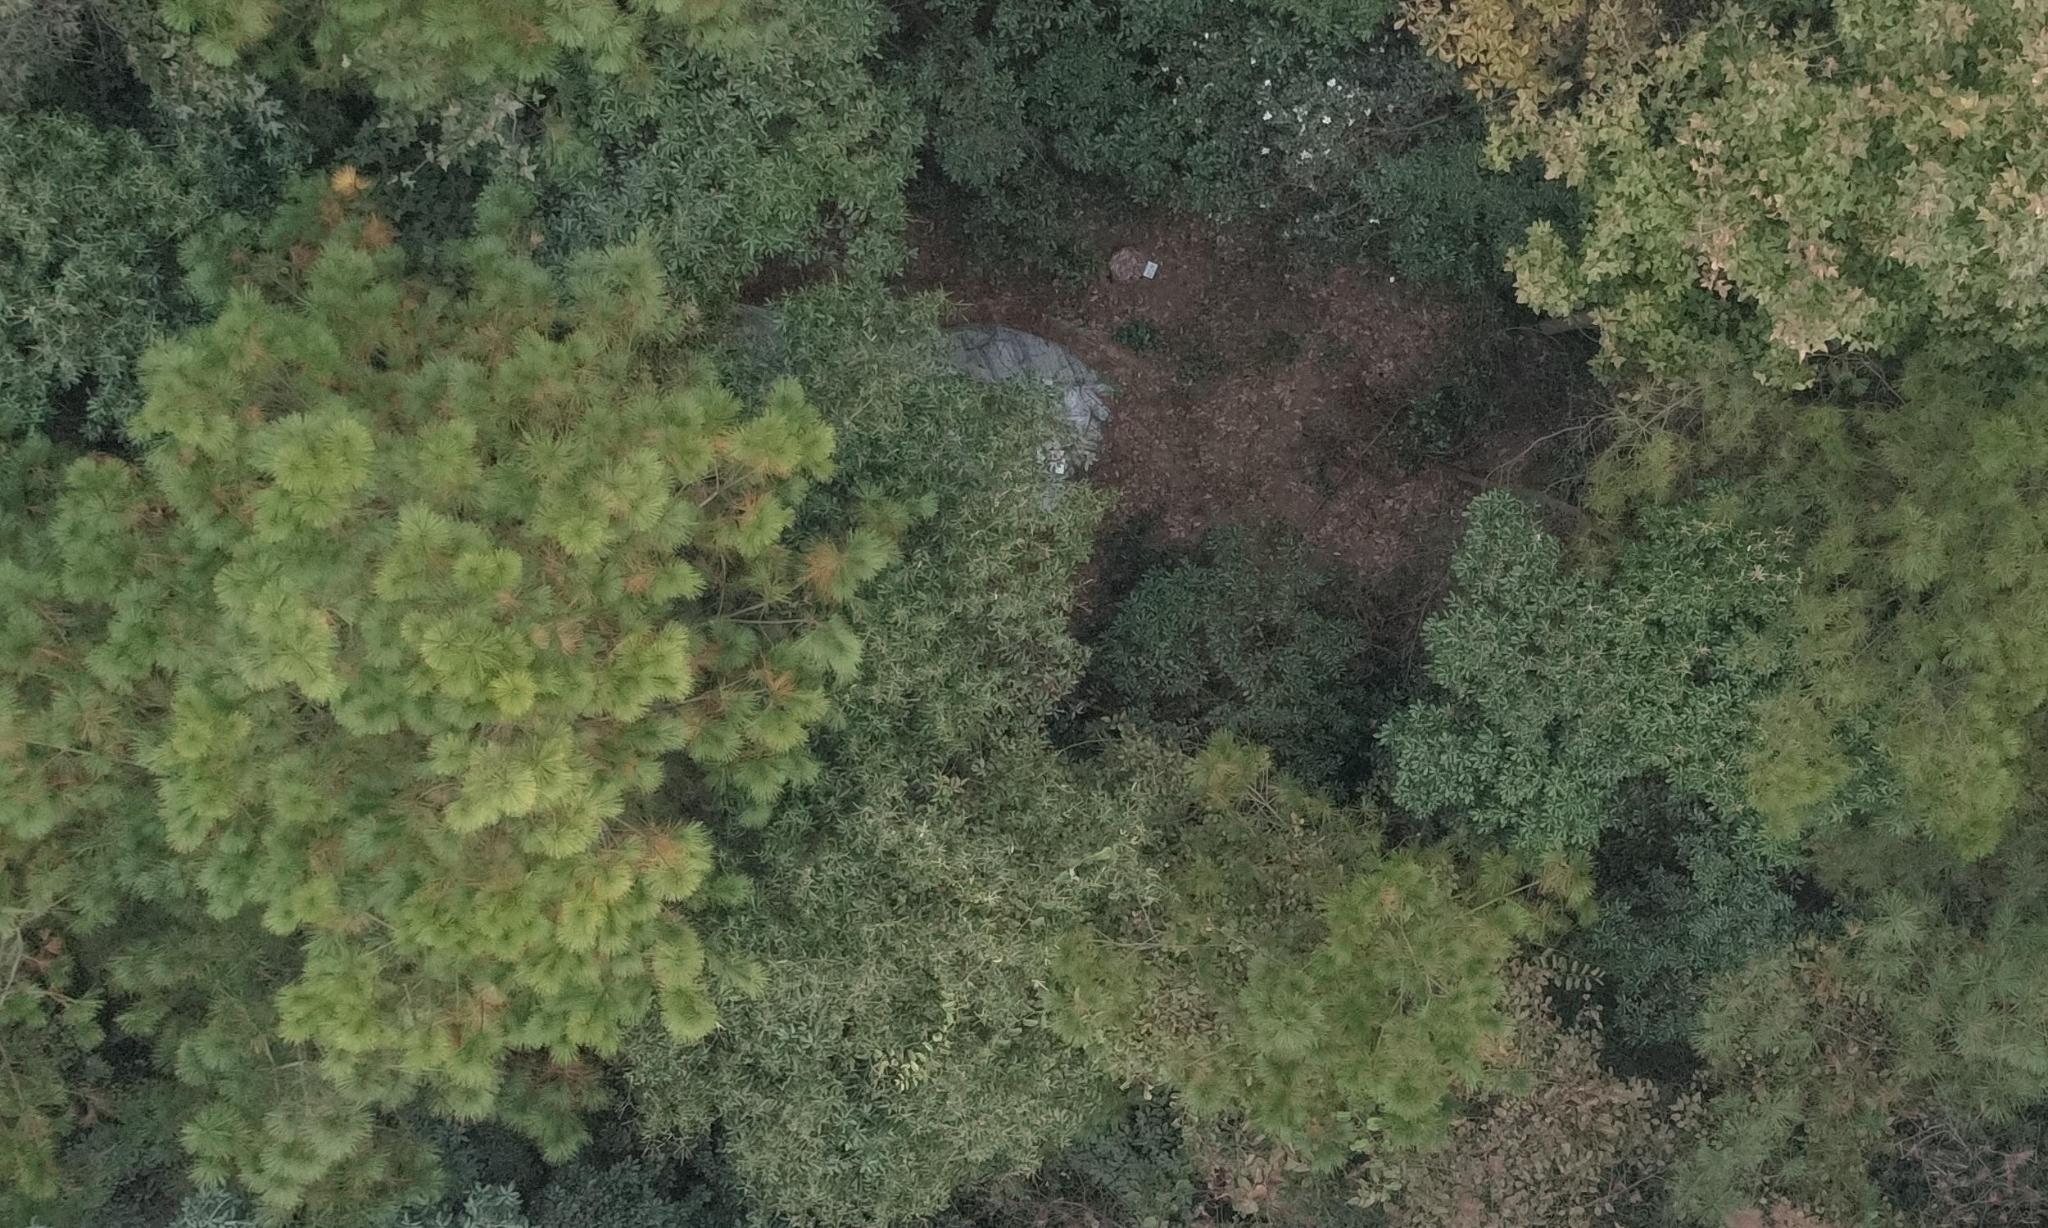light: (218, 237, 855, 928)
